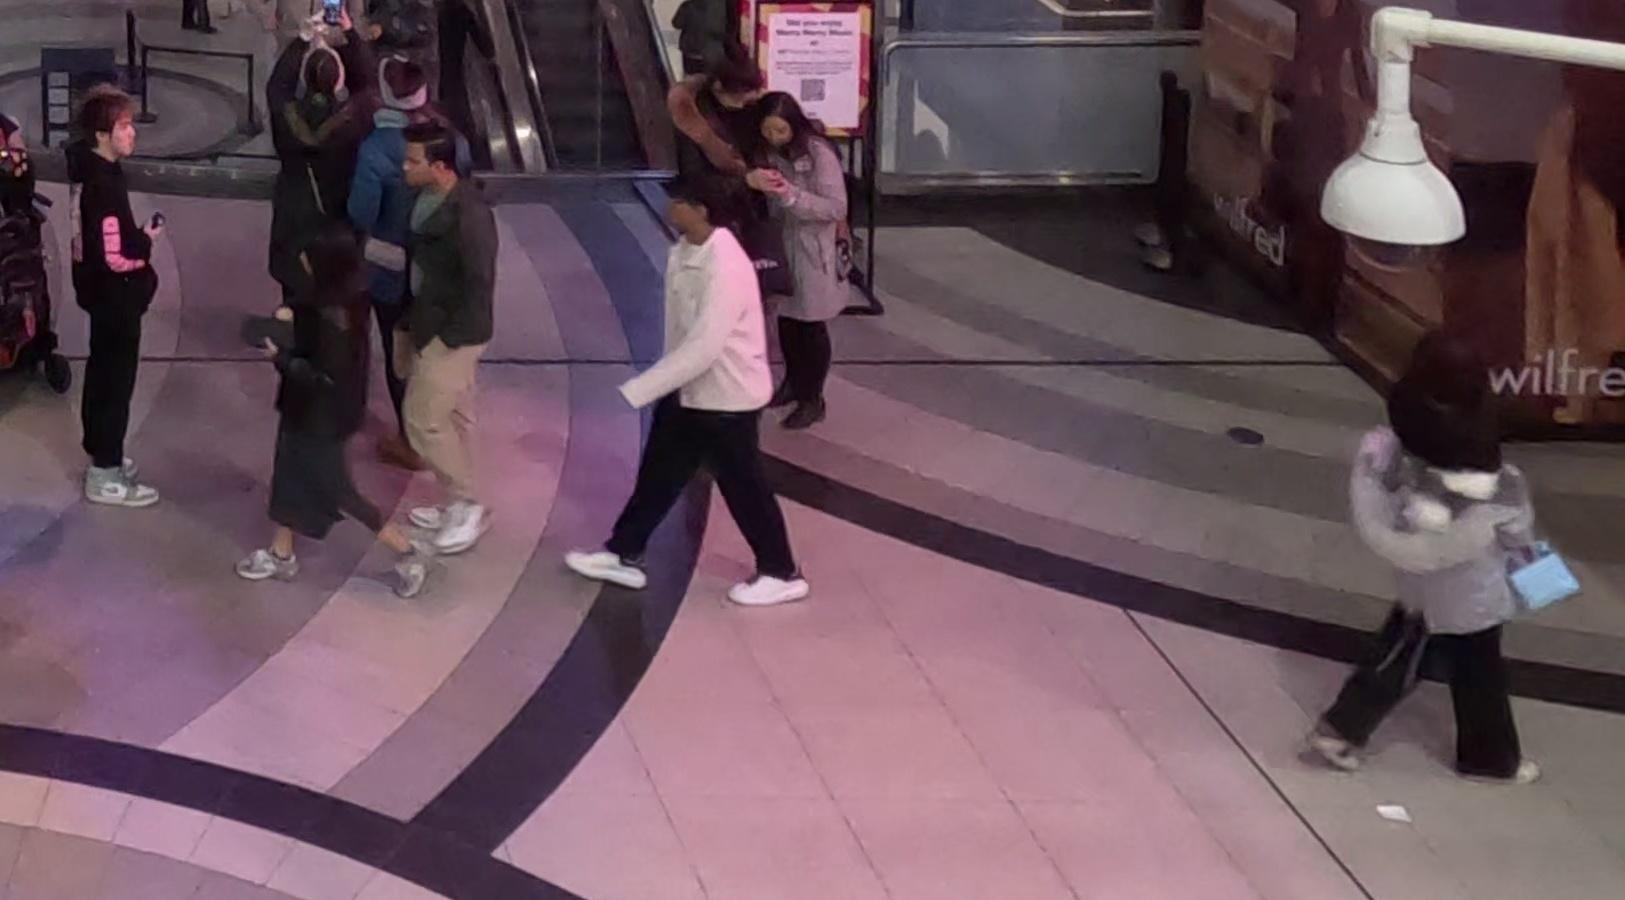person: (1275, 321, 1555, 792), (578, 169, 818, 610), (249, 217, 424, 592), (41, 91, 186, 508), (385, 129, 512, 558), (749, 99, 861, 434), (675, 49, 766, 205)
